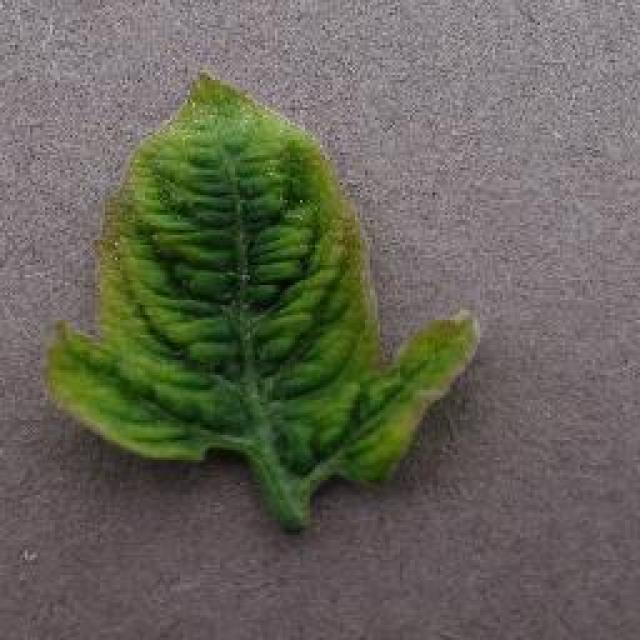Tomato yellow virus leaf: (35, 72, 480, 492)
